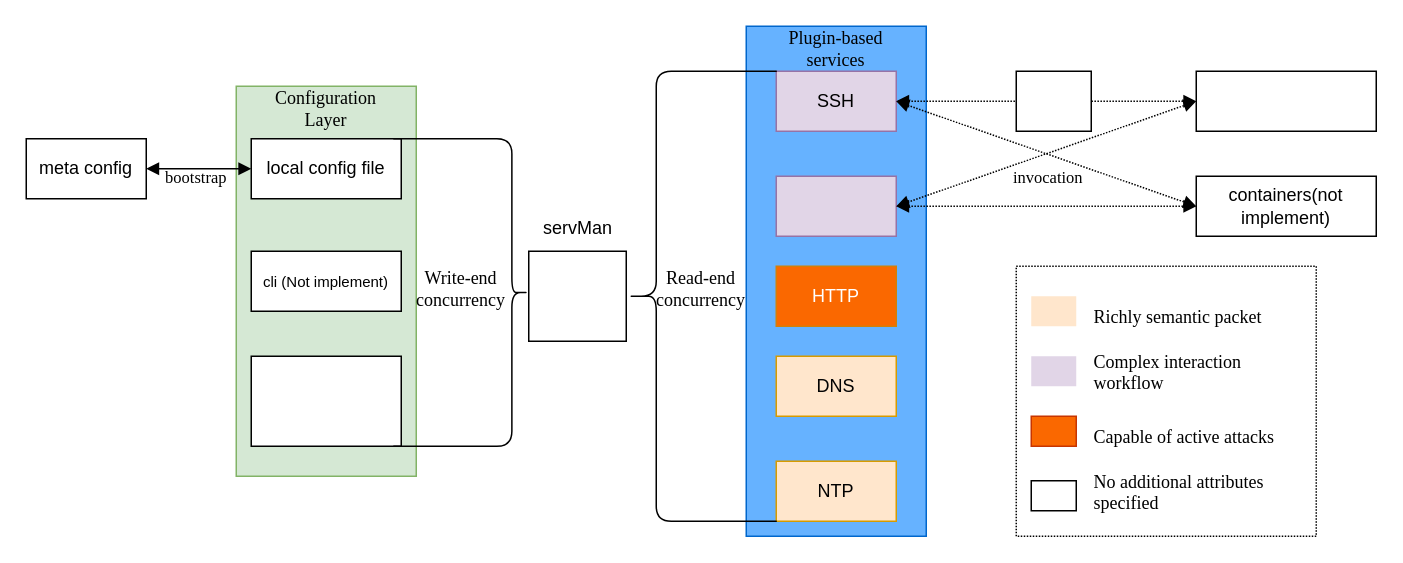
The diagram is 1403 pixels wide and 563 high, and some of its shapes have lost their labels. The centre of each missing label's shape, as x and y in pixels:
"b0gus servMan" goes at point (576, 295).
"distributed update source (Not implement)" goes at point (325, 400).
"LLM" goes at point (1053, 100).
"shell" goes at point (1285, 100).
"SMTP" goes at point (835, 205).
